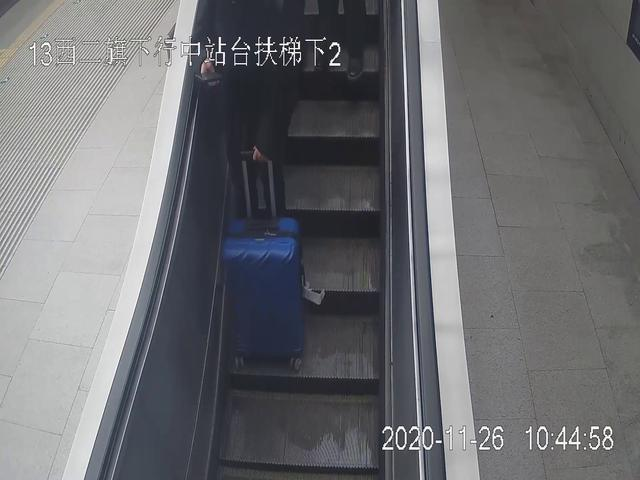person: (197, 1, 306, 371)
